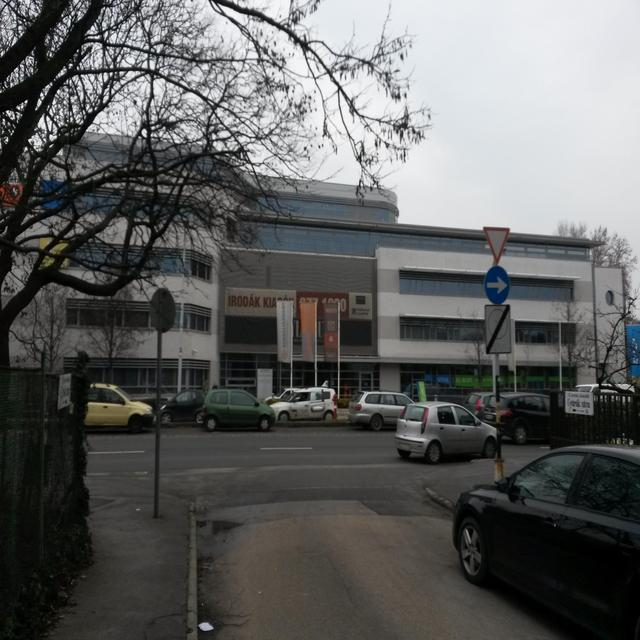Barrier: (87, 422, 203, 429), (271, 420, 361, 426)
Billboard: (224, 286, 372, 320), (257, 368, 272, 401), (507, 319, 513, 371)
Car: (450, 443, 639, 639), (161, 380, 496, 464), (86, 381, 153, 433), (500, 391, 549, 446), (574, 384, 616, 391)
Vegetation: (543, 220, 639, 392), (457, 303, 534, 391)
